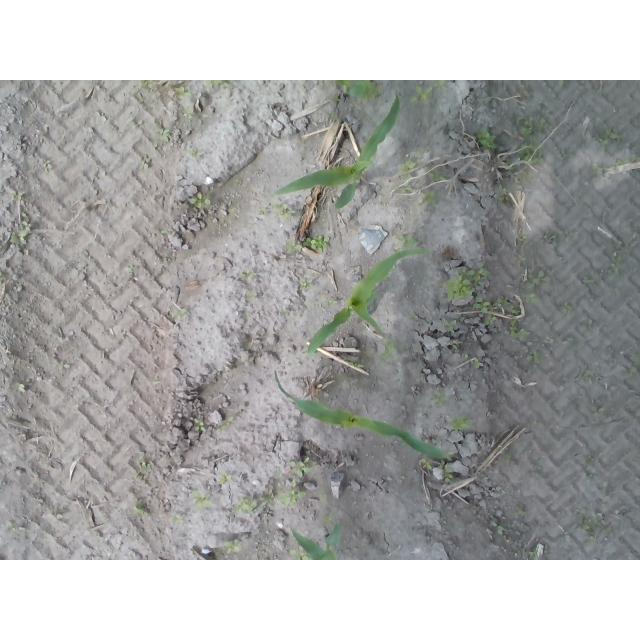Maize: (271, 368, 453, 462), (273, 96, 402, 213), (302, 249, 430, 360), (288, 521, 344, 560), (335, 80, 383, 101)
Weeds: (445, 266, 491, 301), (517, 116, 544, 166), (473, 297, 509, 323), (512, 309, 533, 340), (580, 517, 606, 540), (526, 270, 551, 289), (305, 235, 330, 254), (409, 85, 431, 104), (193, 491, 216, 509), (289, 459, 310, 477), (382, 342, 400, 363), (477, 129, 497, 147), (190, 192, 211, 209), (273, 203, 295, 219), (281, 490, 303, 505), (423, 190, 438, 208), (453, 415, 472, 429), (239, 499, 258, 513), (173, 85, 192, 99), (432, 390, 448, 406), (10, 229, 28, 243), (528, 350, 547, 363), (290, 548, 309, 560), (219, 417, 234, 432), (224, 539, 240, 553), (603, 128, 620, 141), (610, 255, 622, 273), (206, 80, 231, 88), (429, 171, 447, 182), (400, 160, 414, 174), (498, 189, 510, 204), (140, 460, 153, 473), (419, 457, 433, 469), (175, 309, 189, 321), (193, 419, 205, 432), (525, 294, 539, 305), (182, 108, 194, 120), (132, 502, 144, 514), (443, 472, 454, 485), (542, 234, 557, 243), (138, 80, 153, 89), (445, 318, 456, 330), (12, 191, 25, 201), (159, 129, 169, 141), (241, 270, 253, 280), (220, 473, 232, 483), (287, 244, 301, 252), (299, 279, 309, 289), (472, 359, 482, 369)
